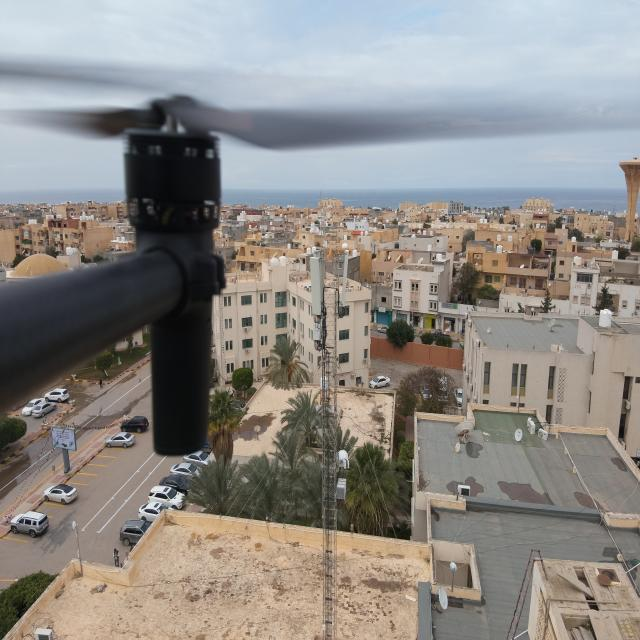antenna: (308, 255, 322, 316), (313, 250, 324, 302), (340, 250, 349, 307)
lighnig-rad: (320, 190, 322, 250)
microware-dish: (335, 450, 350, 469)
power-box: (336, 477, 347, 502)
radio-unit: (312, 322, 323, 341)
